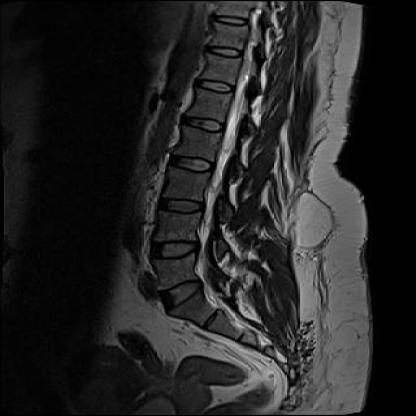Disc Bulgerotation: (155, 280, 210, 309)
